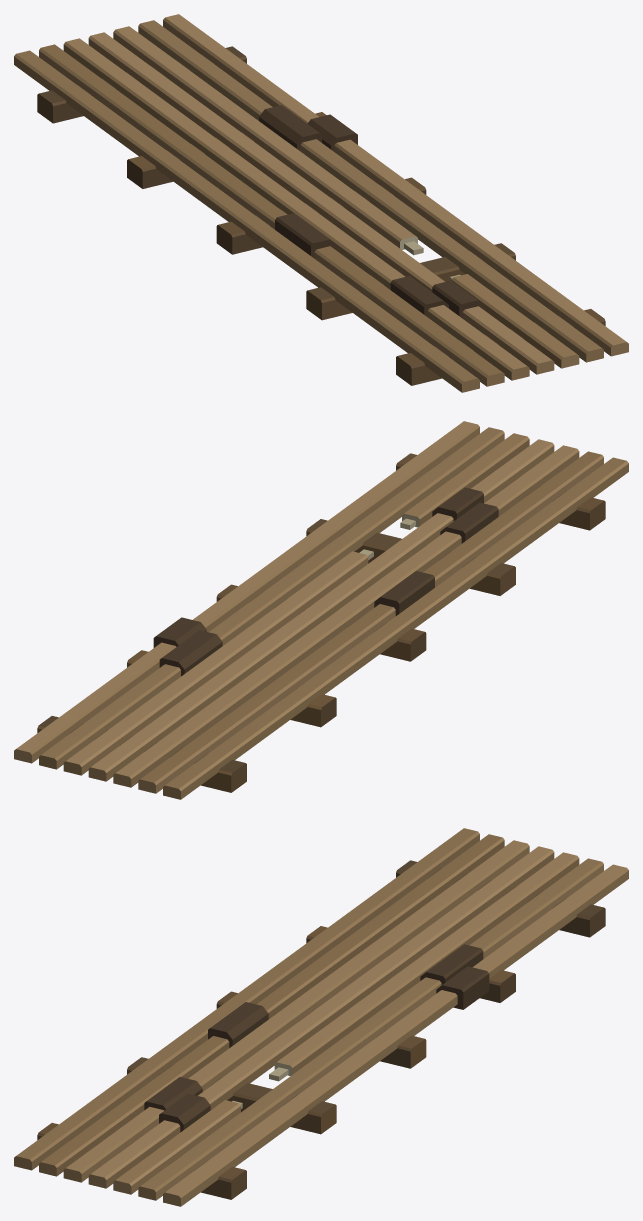
The model's file is duckboard-walkway-b523bc.glb.
3 renders of one model, top to bottom at view 1: azimuth 30°, elevation 25°; view 2: azimuth 150°, elevation 25°; view 3: azimuth 330°, elevation 25°, orthographic.
Parts seen in each view (by area): view 1: duckboard; view 2: duckboard; view 3: duckboard.
Part boxes in pixels (x1,y1,x2,y2): duckboard: [14, 14, 628, 392]; duckboard: [14, 421, 628, 799]; duckboard: [14, 828, 628, 1206].
Bounding box in the file's own units: 1 × 0.169 × 4.
